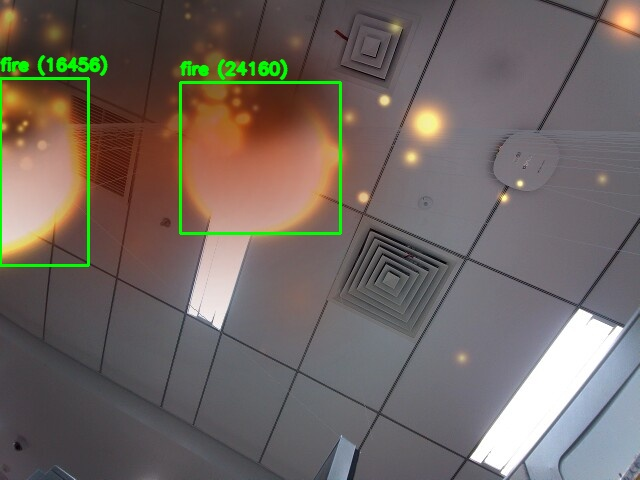fire: (180, 82, 340, 233), (0, 78, 88, 265)
